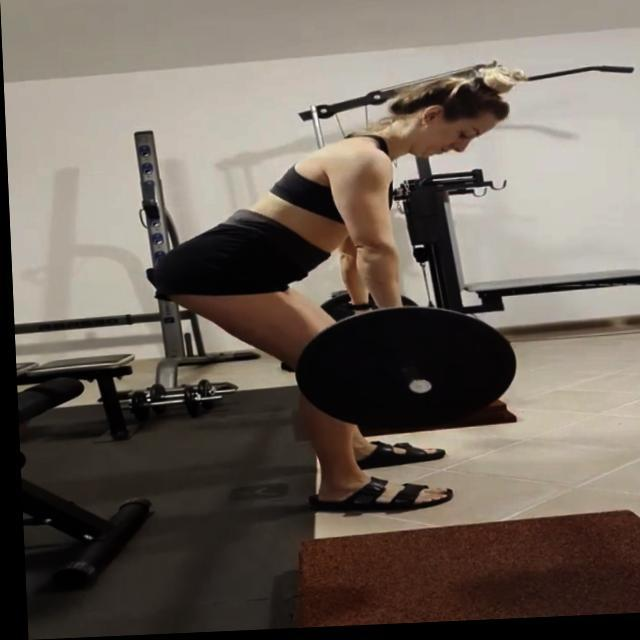barbell: (288, 305, 521, 441)
